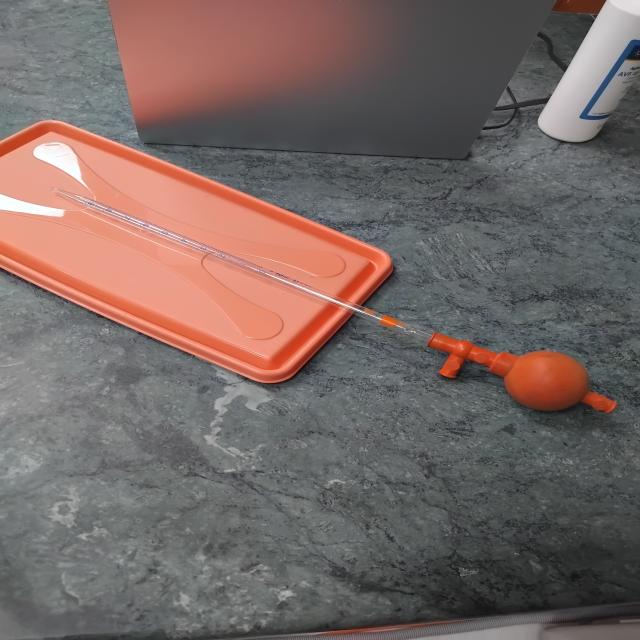Volumetric_Pipet: (15, 162, 640, 448)
